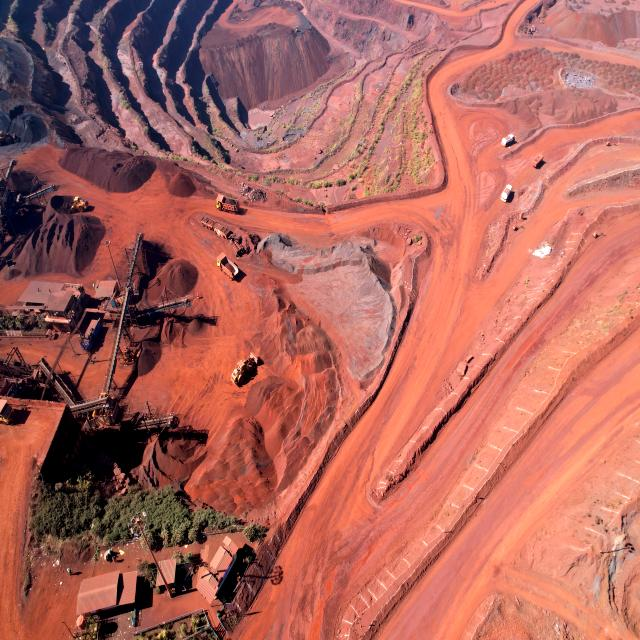Dumper truck: (219, 256, 238, 280), (0, 400, 16, 424), (216, 196, 237, 212), (534, 154, 544, 167)
person: (67, 568, 73, 577), (111, 555, 117, 564)
